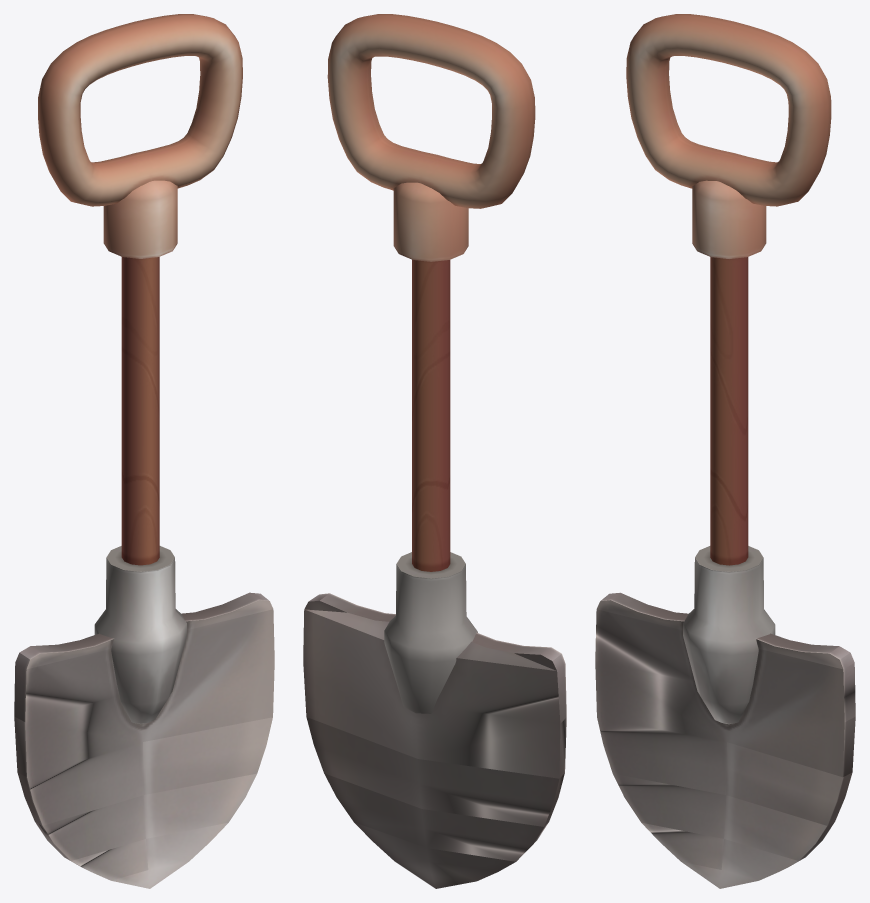
Rendered from 宝宝巴士-飞行器风波-铲子.FBX.
3 views of the same model, side by side, from view 1: azimuth 30°, elevation 25°; view 2: azimuth 150°, elevation 25°; view 3: azimuth 330°, elevation 25° (orthographic).
Visible parts, largest first — view 1: 宝宝巴士-飞行器风波-铲子; view 2: 宝宝巴士-飞行器风波-铲子; view 3: 宝宝巴士-飞行器风波-铲子.
Part boxes in pixels (x1,y1,x2,y2): 宝宝巴士-飞行器风波-铲子: [14, 14, 274, 888]; 宝宝巴士-飞行器风波-铲子: [303, 14, 566, 888]; 宝宝巴士-飞行器风波-铲子: [595, 14, 855, 888].
Bounding box in the file's own units: 16.68 × 53.87 × 4.96.
